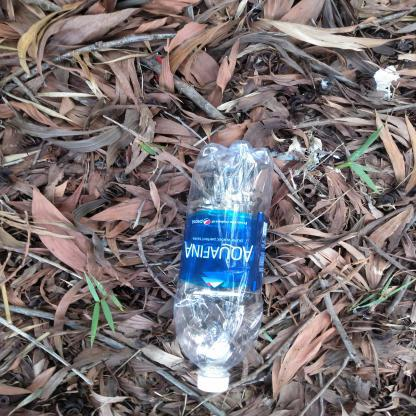plastik: (174, 141, 276, 399)
